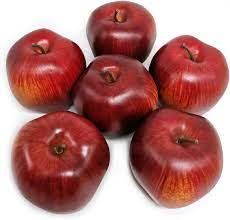apple: (11, 110, 221, 211)
